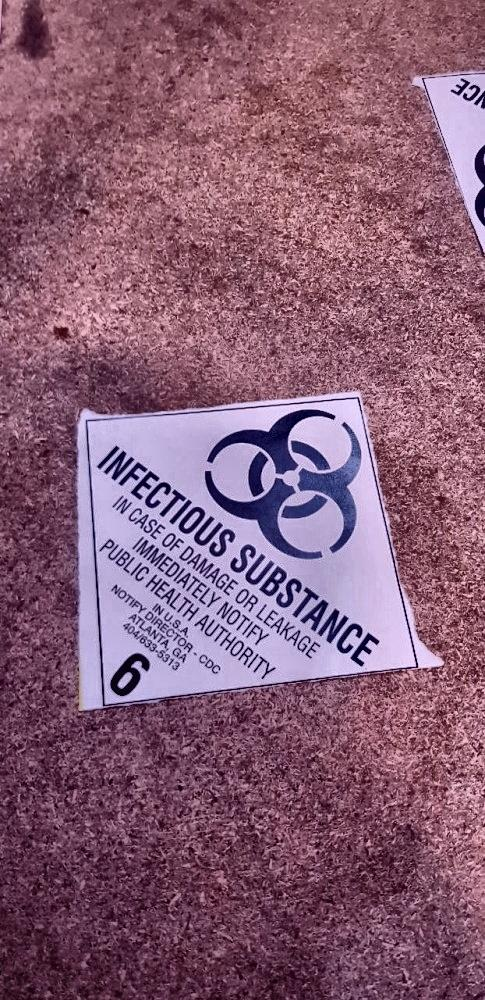infectious-substance: (80, 394, 416, 709)
